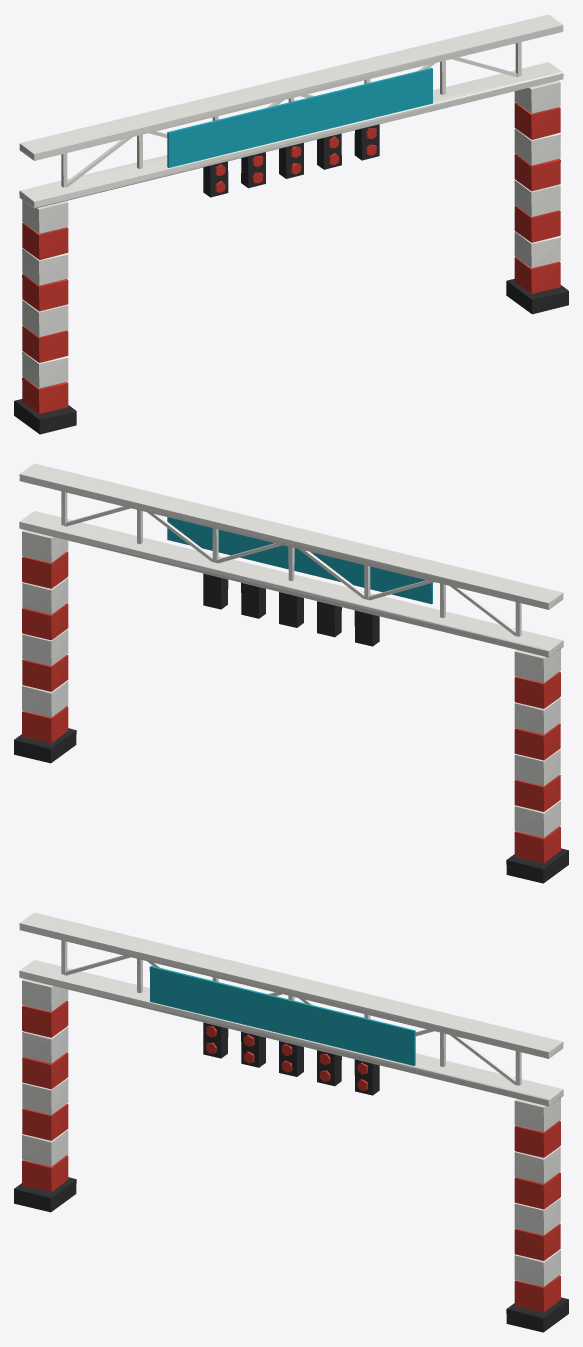
Rendered from start_gantry_lod1.obj.
The picture shows the model from 3 angles, top to bottom: view 1: azimuth 30°, elevation 25°; view 2: azimuth 150°, elevation 25°; view 3: azimuth 330°, elevation 25°; orthographic projection.
Visible parts, largest first — view 1: start_gantry_lod1; view 2: start_gantry_lod1; view 3: start_gantry_lod1.
Boxes of the visible parts, left/top/right/bottom form: start_gantry_lod1: left=14, top=14, right=568, bottom=434; start_gantry_lod1: left=14, top=463, right=568, bottom=883; start_gantry_lod1: left=14, top=912, right=568, bottom=1332.
Bounding box in the file's own units: 13.98 × 6.98 × 1.18.
